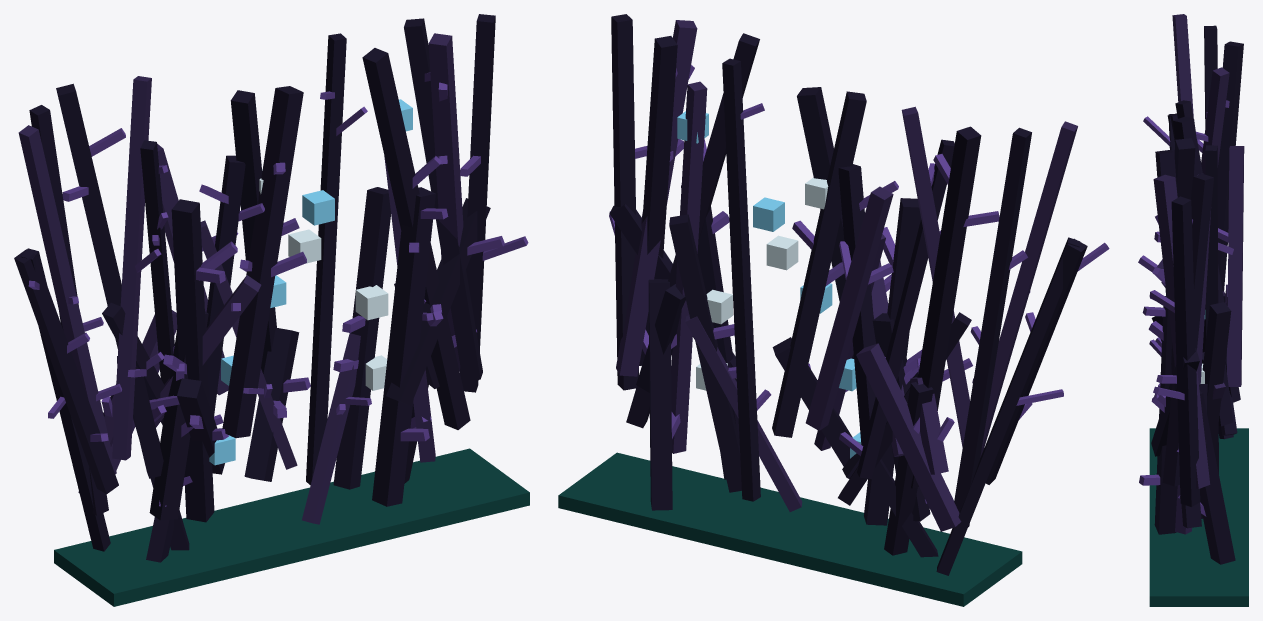
Rendered from thorn_wall_s3.glb.
3 views of the same model, side by side, from view 1: azimuth 30°, elevation 25°; view 2: azimuth 150°, elevation 25°; view 3: azimuth 270°, elevation 25° (orthographic). The views are drawn at different scales.
Visible parts, largest first — view 1: thorn_wall_s3; view 2: thorn_wall_s3; view 3: thorn_wall_s3.
Part boxes in pixels (<box>): thorn_wall_s3: <box>14,14,529,606</box>; thorn_wall_s3: <box>558,14,1109,606</box>; thorn_wall_s3: <box>1138,14,1248,606</box>.
Size of the model in its own units: 2.44 by 2.22 by 0.5578.
